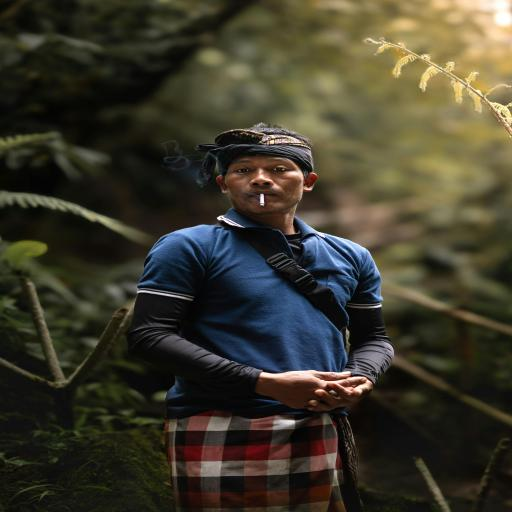merokok: (223, 141, 307, 230)
